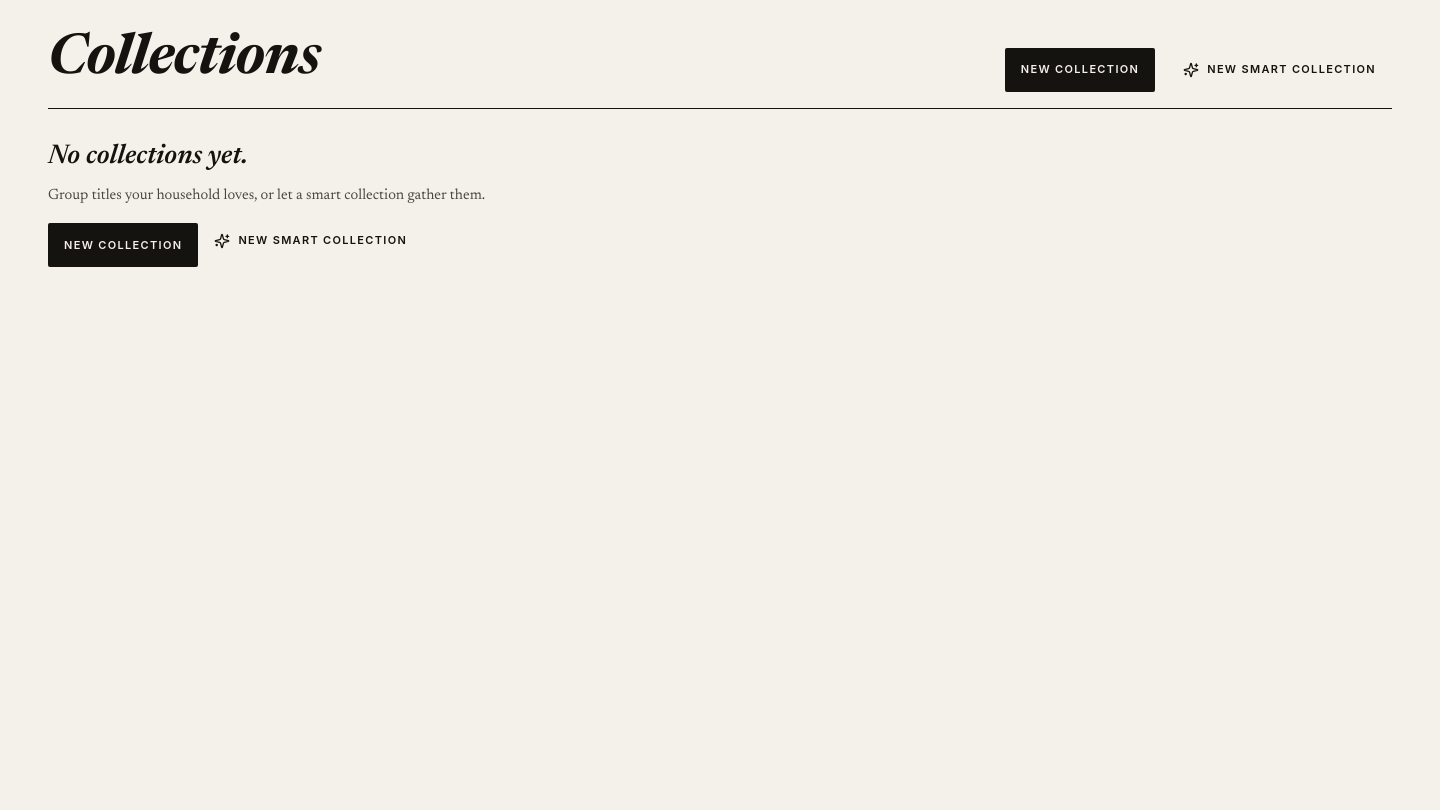
Test: Collections list › a failed create keeps the dialog open with the reason and the name
Click the 1st button "New collection" at (1080, 70), box [1005, 48, 1155, 92]
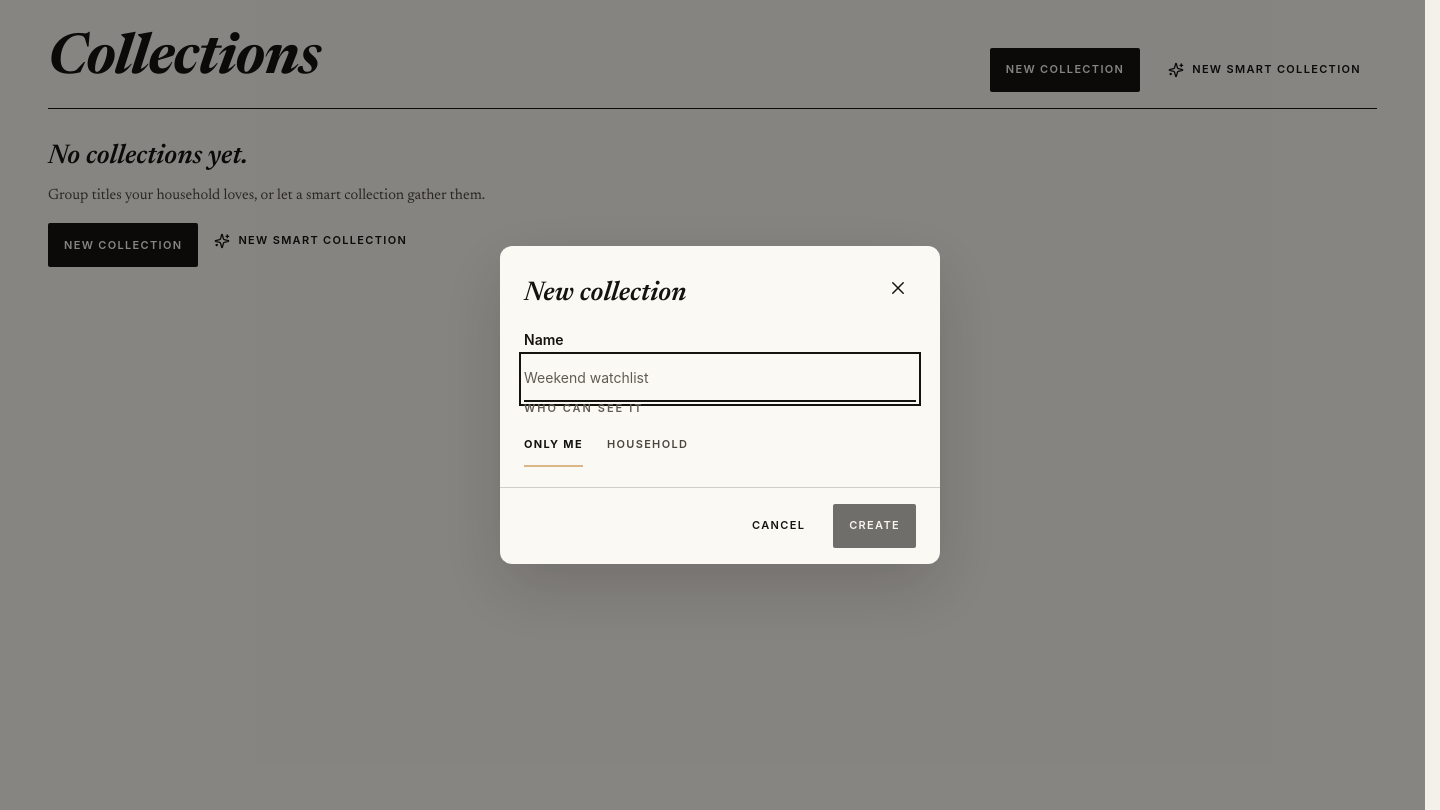
Type "Dupes" into the field at (720, 378), box [524, 356, 916, 400]
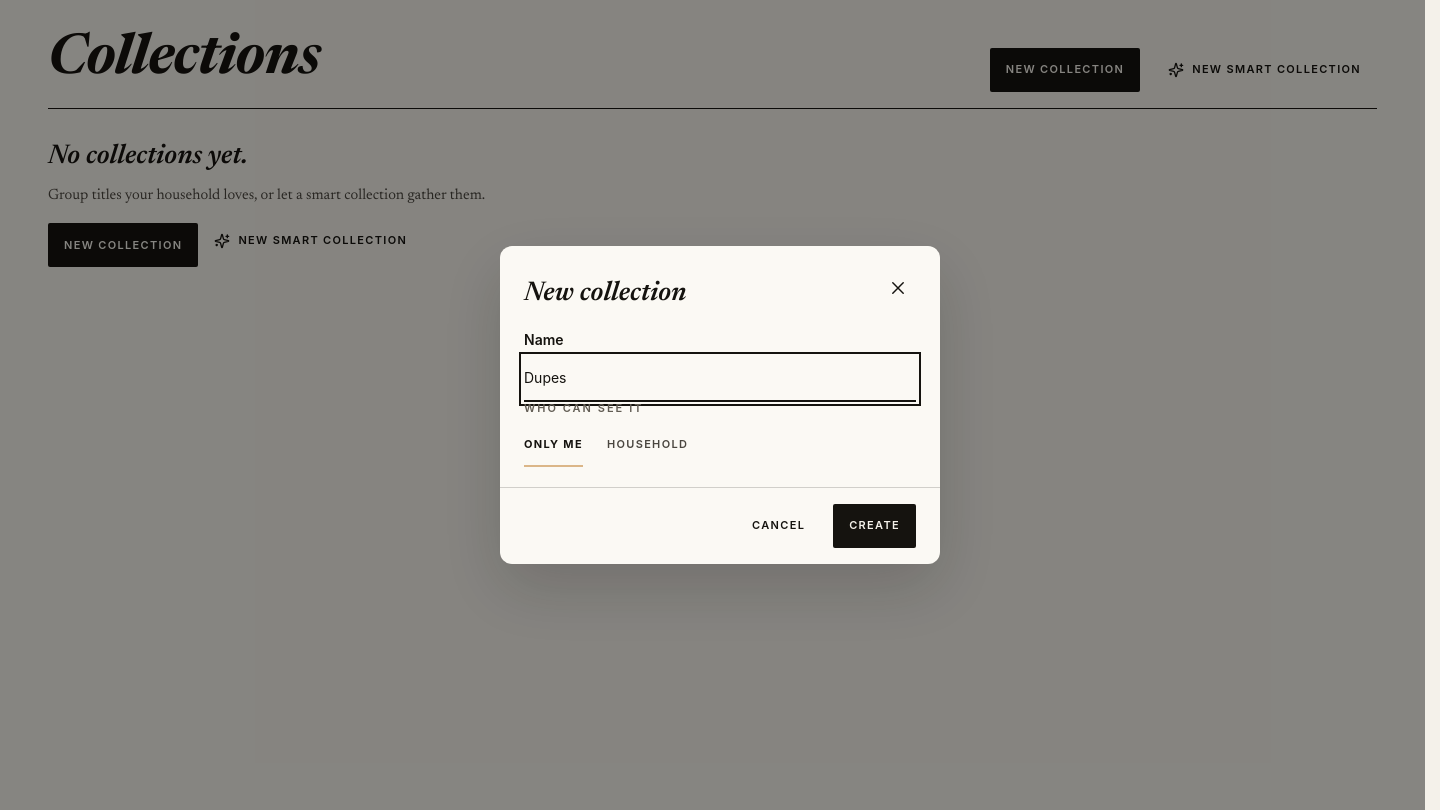
Click the button "Create" at (875, 526), box [833, 504, 916, 548]
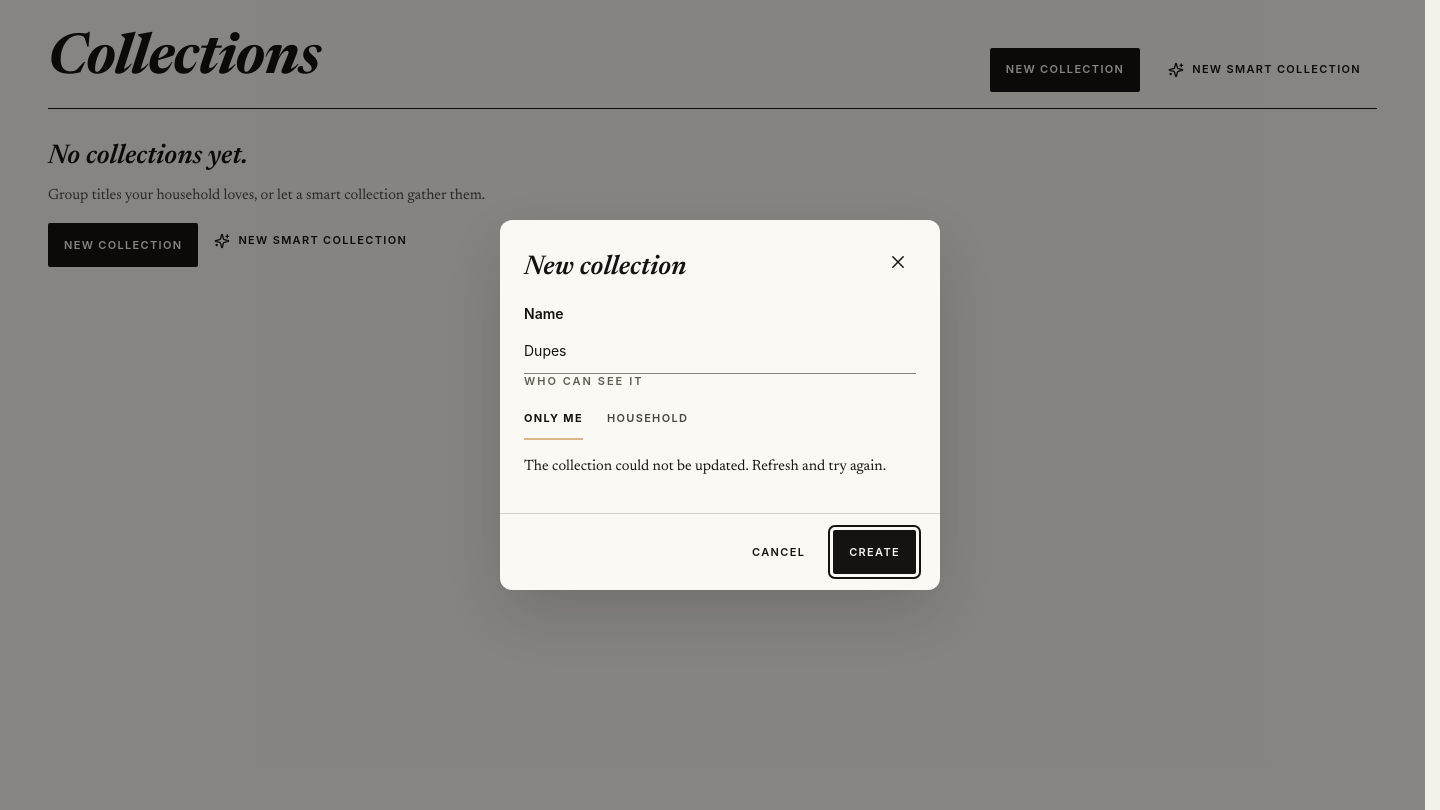
Now the message shows "could not be updated", box [524, 459, 886, 474]
